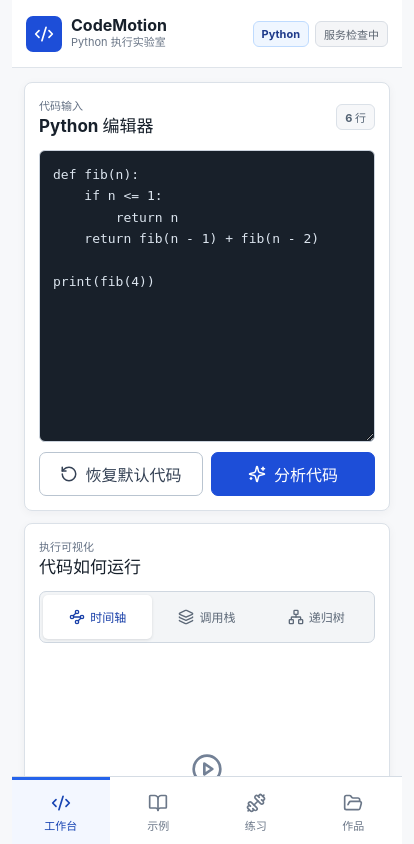
Test case: CodeMotion application › invalidates a pending analysis success when code is edited
Click the button "分析代码".
click(293, 474)  # box 211,452 -> 375,496
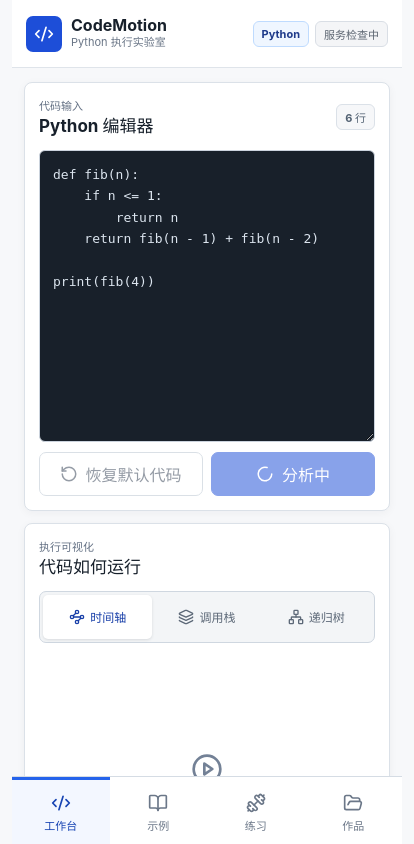
Replace the text in the text box named "Python 代码" with "print('edited while loading')" at (207, 296), box 39,150 -> 375,442
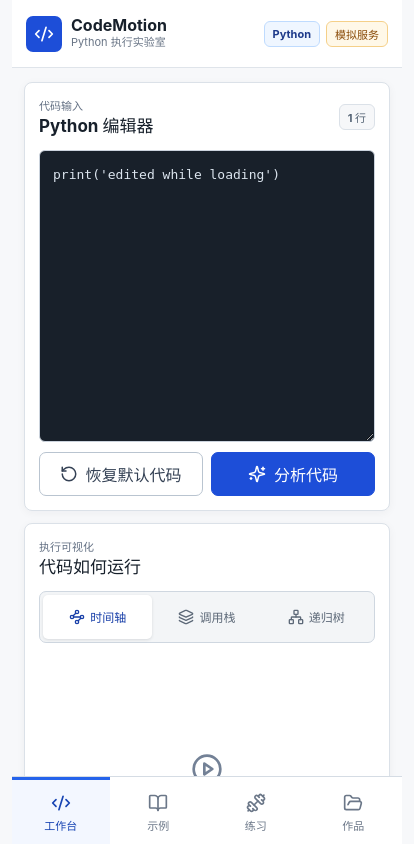
Check: the button "分析代码" is enabled, box 211,452 -> 375,496
